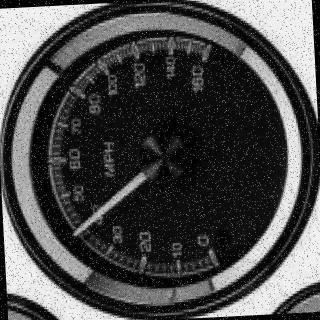gauge: (2, 2, 320, 320), (133, 125, 197, 185), (186, 36, 226, 76), (197, 238, 230, 267), (66, 224, 86, 244)
